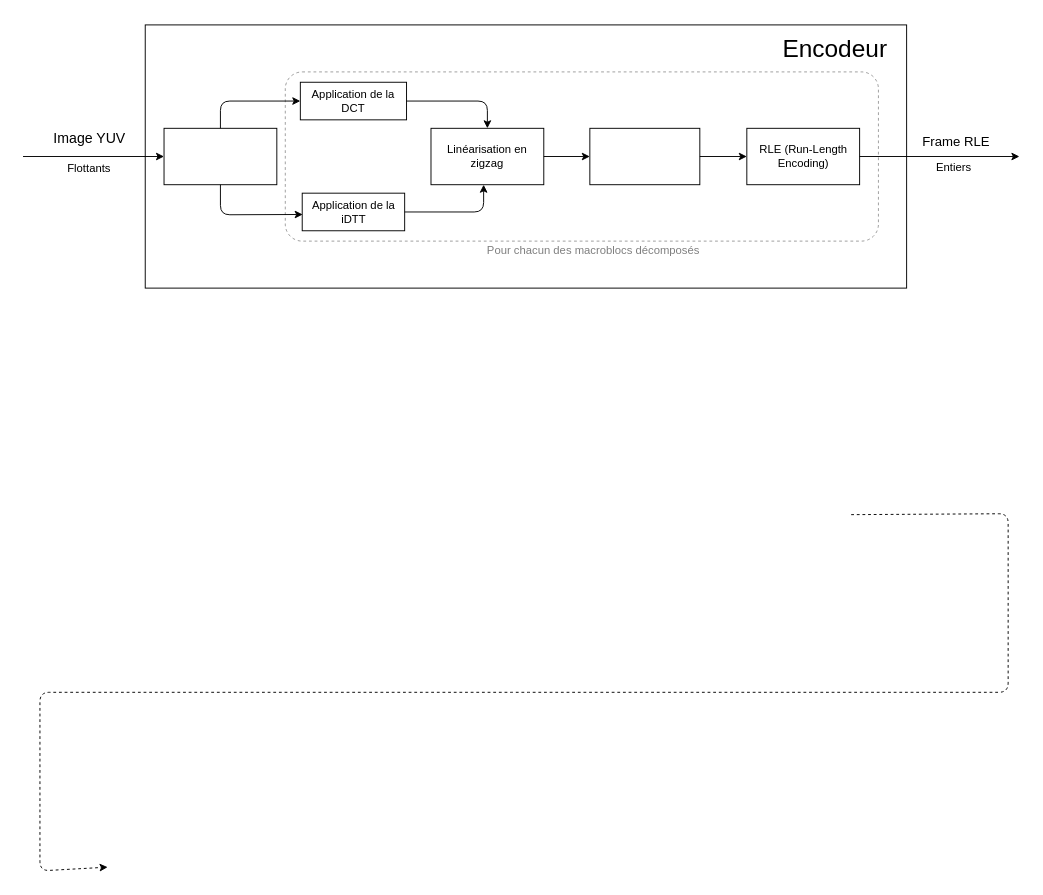
Image size: 1043x895. Some labels were removed from this diagram. The box of each missing label's shape, as (x1, y1, x2, y2) in pixels:
Décomposition en macroblocs (16x16): (163, 127, 277, 185)
Seuillage (seuil = 10): (589, 127, 700, 185)
